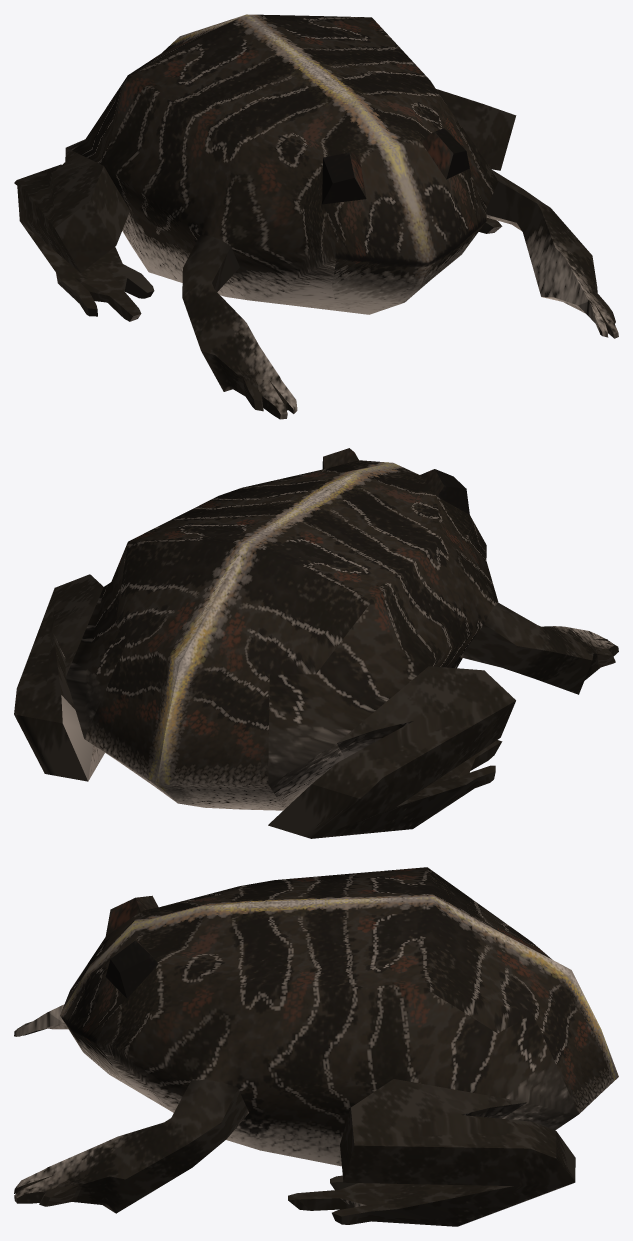
Rendered from frogCOMEPETEFBX.fbx.
3 views of the same model, one above another, from view 1: azimuth 30°, elevation 25°; view 2: azimuth 150°, elevation 25°; view 3: azimuth 270°, elevation 25° (orthographic). The views are drawn at different scales.
Visible parts, largest first — view 1: pCube1; view 2: pCube1; view 3: pCube1.
Boxes of the visible parts, x1,y1,x2,y2 form: pCube1: (14,14,618,419); pCube1: (14,448,618,838); pCube1: (14,867,618,1226).
Size of the model in its own units: 4.51 by 2.25 by 4.98.
Materials: 1 (1 with a texture image).
